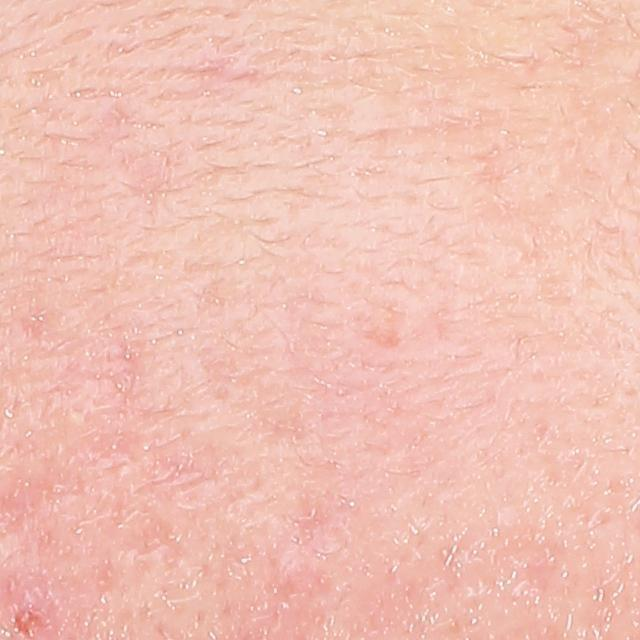papule: (15, 604, 47, 635)
